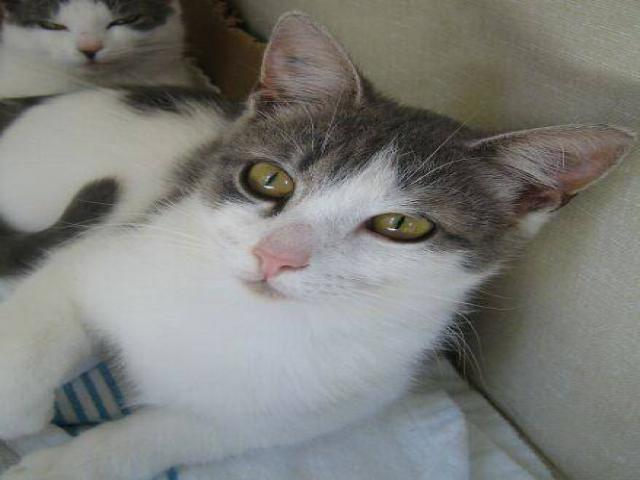cat: (5, 7, 625, 477)
